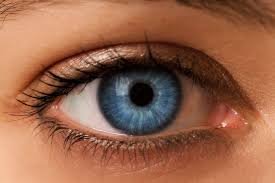pupil: (99, 68, 182, 133)
